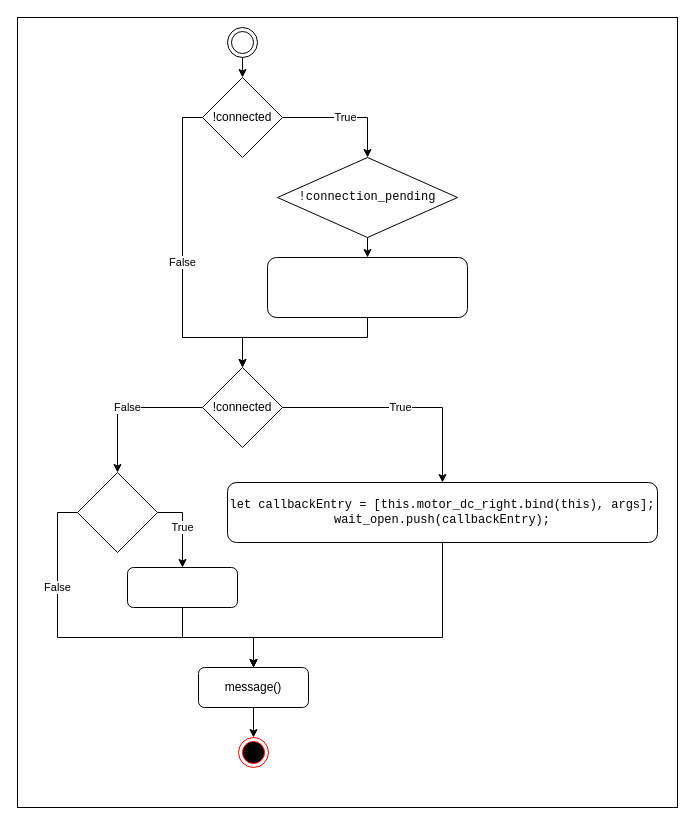
The diagram is 695 pixels wide and 825 high, and some of its shapes have lost their labels. The shapes that lost their labels are listed below. From the top down, each one's centre as x and y in pixels, then its label:
the point at 367,287: this . connect ( ) ; connection_pending = true ;
the point at 117,512: pin_mode()
the point at 182,587: set_pin_mode()
